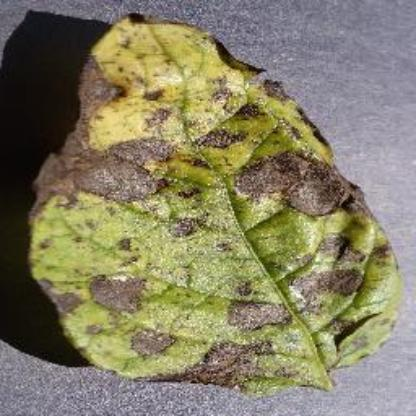Early-Blight: (23, 9, 402, 389)
